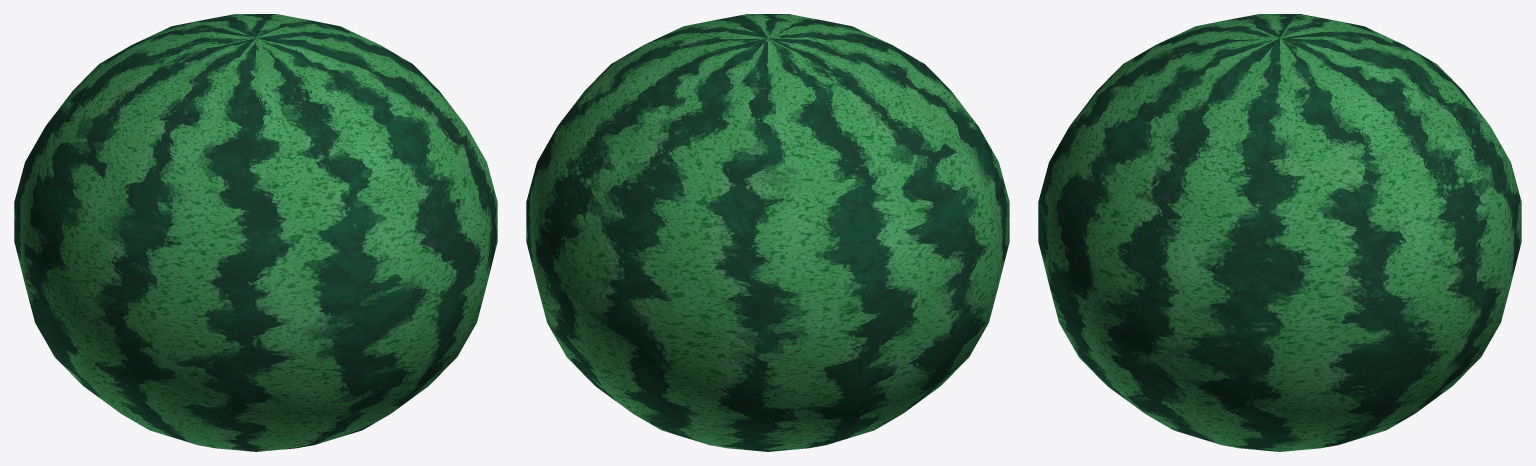
File: karpuz.fbx
The picture shows the model from 3 angles, left to right: view 1: azimuth 30°, elevation 25°; view 2: azimuth 150°, elevation 25°; view 3: azimuth 270°, elevation 25°; orthographic projection.
Visible parts, largest first — view 1: Head; view 2: Head; view 3: Head.
Boxes of the visible parts, left/top/right/bottom form: Head: left=14, top=14, right=497, bottom=451; Head: left=526, top=14, right=1009, bottom=451; Head: left=1038, top=14, right=1521, bottom=451.
Bounding box in the file's own units: 9.84 × 8.78 × 9.89.
